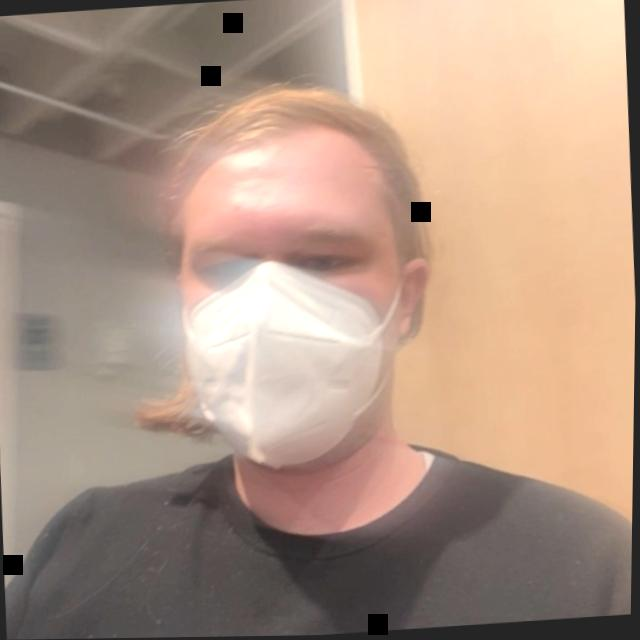Mask: (94, 47, 489, 536)
